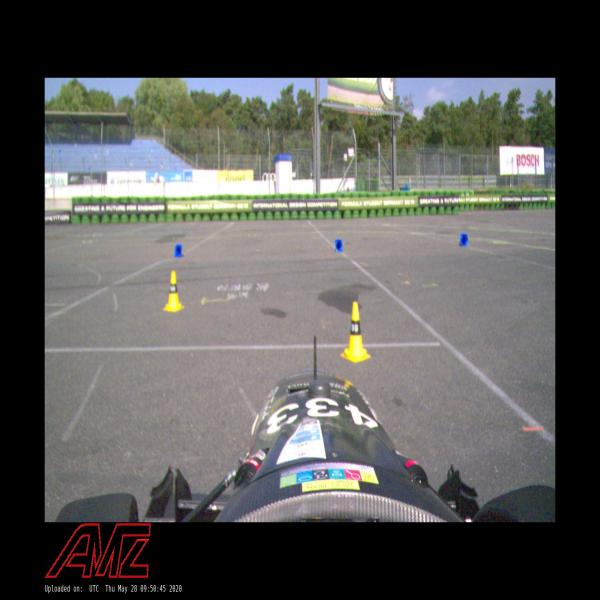blue_cone: (174, 244, 184, 258), (460, 232, 468, 246), (335, 238, 343, 252)
yellow_cone: (340, 302, 371, 362), (163, 270, 184, 312)
